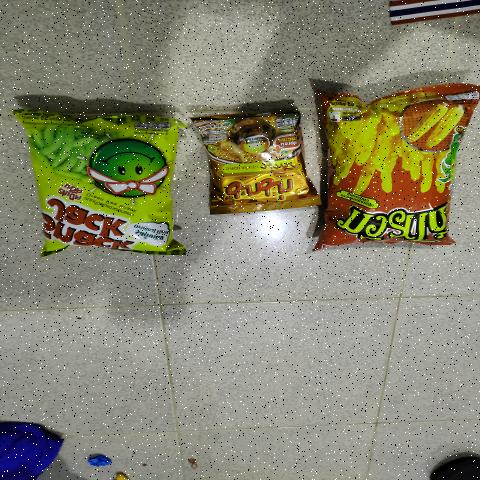mama: (207, 109, 304, 212)
snack_jack: (46, 124, 166, 246)
twisco: (332, 103, 442, 246)
